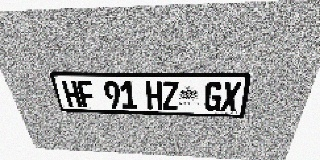1: (119, 81, 137, 109)
9: (103, 81, 122, 109)
F: (76, 80, 97, 108)
G: (204, 82, 223, 111)
H: (61, 80, 83, 107), (146, 81, 163, 110)
X: (220, 82, 242, 112)
Z: (162, 81, 179, 110)
